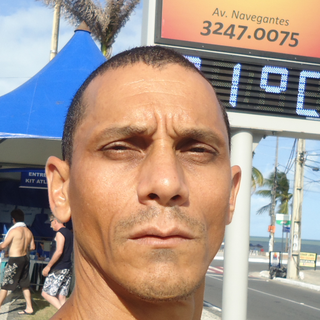eye: (174, 134, 224, 169), (96, 136, 148, 165)
